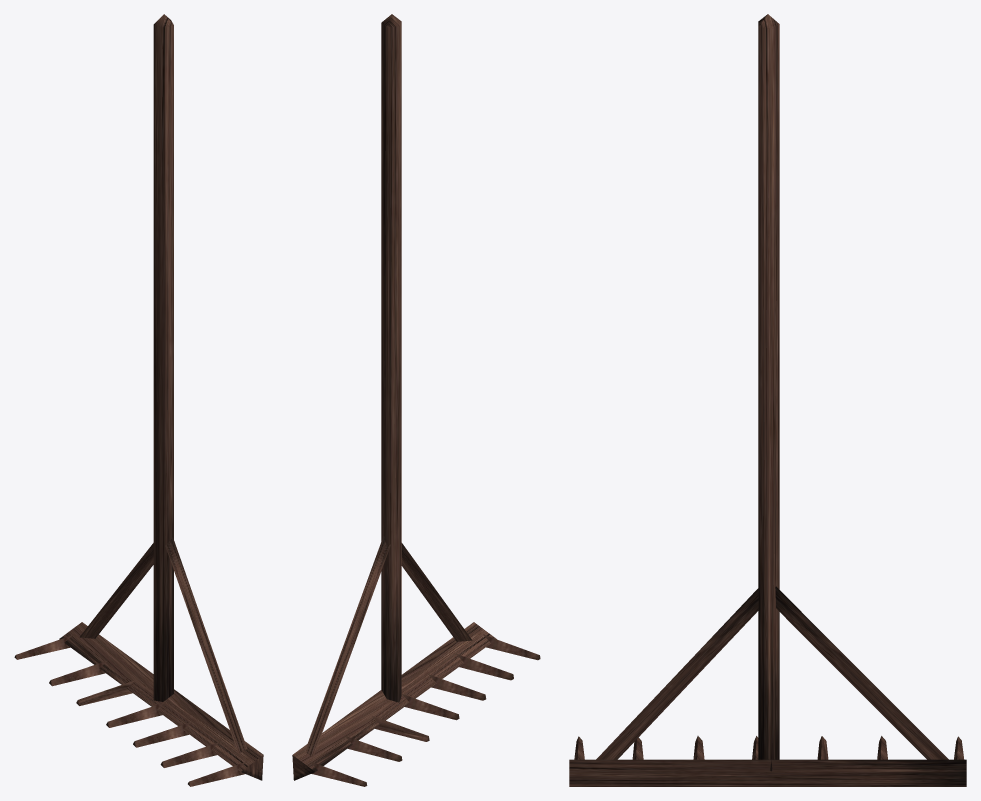
The model's file is rake.fbx.
3 renders of one model, left to right at view 1: azimuth 30°, elevation 25°; view 2: azimuth 150°, elevation 25°; view 3: azimuth 270°, elevation 25°, orthographic. The views are drawn at different scales.
Visible parts, largest first — view 1: rake.001, cross1, diag_brace1, diag_brace2, peg_7, peg_2, peg_5, peg_1, peg_4, peg_6, peg_3; view 2: rake.001, cross1, diag_brace2, diag_brace1, peg_7, peg_2, peg_5, peg_4, peg_1, peg_6, peg_3; view 3: rake.001, cross1, diag_brace2, diag_brace1.
Boxes of the visible parts, x1,y1,x2,y2 form: rake.001: (153,14,173,701); cross1: (59,622,263,780); diag_brace1: (165,538,247,753); diag_brace2: (79,543,153,638); peg_7: (160,742,219,767); peg_2: (133,722,191,747); peg_5: (106,702,165,727); peg_1: (76,680,135,705); peg_4: (49,660,107,686); peg_6: (188,761,246,786); peg_3: (14,635,72,659); rake.001: (381,14,401,702); cross1: (292,622,496,780); diag_brace2: (304,536,390,756); diag_brace1: (401,543,472,641); peg_7: (456,654,513,680); peg_2: (428,674,486,700); peg_5: (402,694,459,720); peg_4: (345,736,402,761); peg_1: (372,716,429,741); peg_6: (483,634,540,660); peg_3: (310,761,367,786); rake.001: (758,14,779,771); cross1: (569,759,966,786); diag_brace2: (775,586,948,759); diag_brace1: (596,588,758,759).
Size of the model in its own units: 49.47 by 472 by 221.
Materials: 1 (1 with a texture image).
